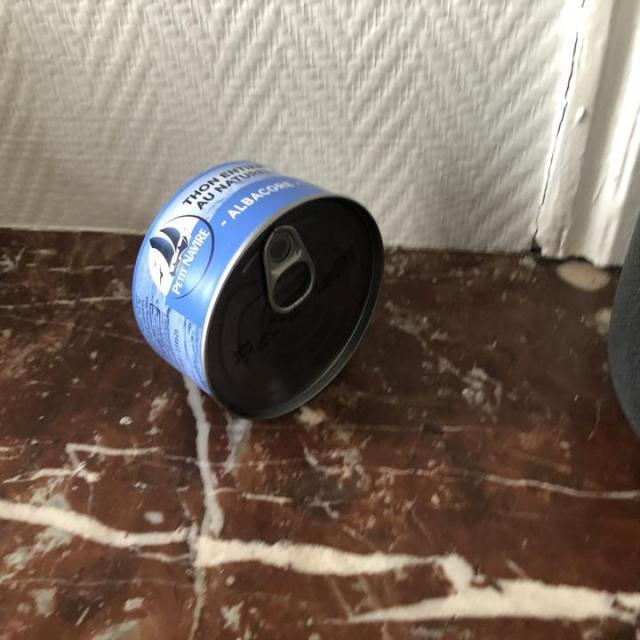recyclable: (128, 160, 390, 428)
